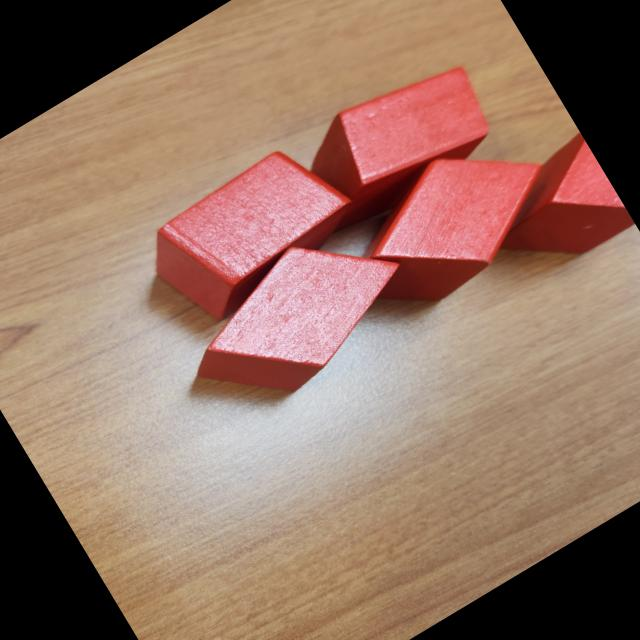red: (170, 210, 416, 431), (329, 114, 572, 328), (133, 134, 364, 338), (287, 44, 508, 235), (469, 130, 636, 291)
